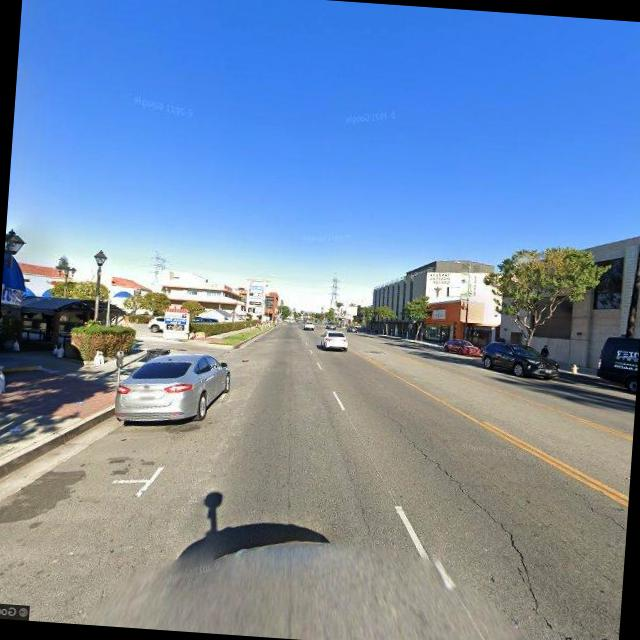pothole: (379, 417, 580, 628), (558, 480, 629, 548)
